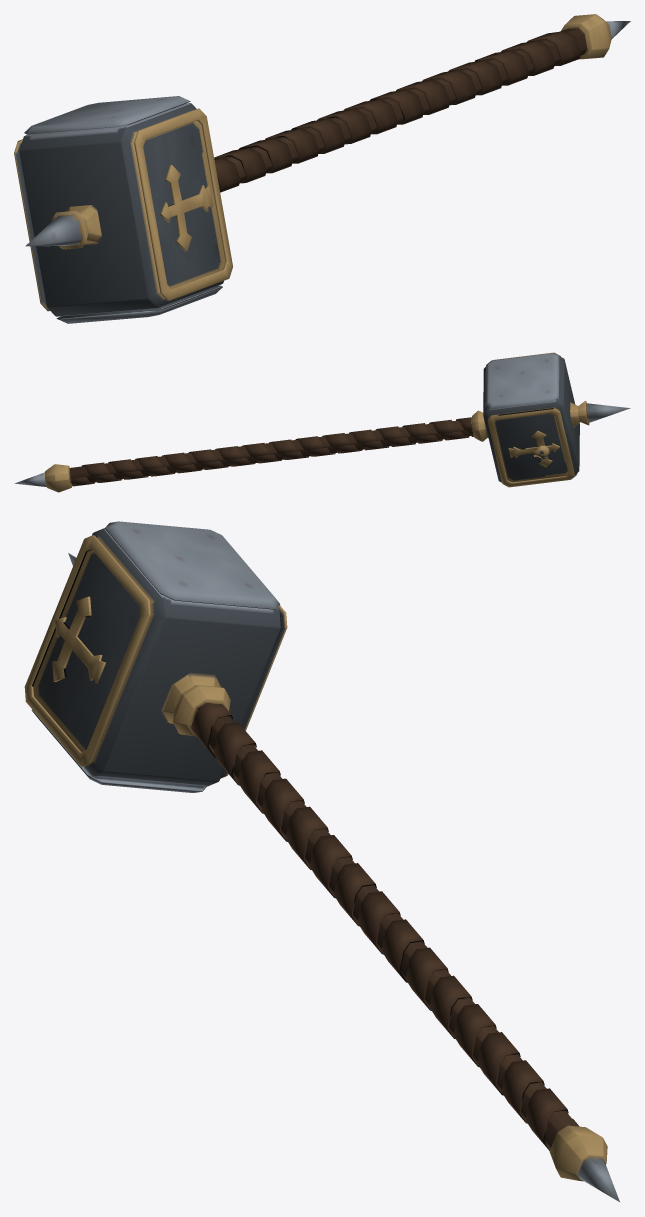
The model's file is wep_civic_battle_prelate_dawn_maul_lod2.glb.
The picture shows the model from 3 angles, top to bottom: view 1: azimuth 30°, elevation 25°; view 2: azimuth 150°, elevation 25°; view 3: azimuth 270°, elevation 25°; orthographic projection. The views are drawn at different scales.
Visible parts, largest first — view 1: battle_prelate_weapon_lod2; view 2: battle_prelate_weapon_lod2; view 3: battle_prelate_weapon_lod2.
Boxes of the visible parts, left/top/right/bottom form: battle_prelate_weapon_lod2: left=14, top=14, right=630, bottom=323; battle_prelate_weapon_lod2: left=14, top=352, right=630, bottom=492; battle_prelate_weapon_lod2: left=24, top=521, right=619, bottom=1201.
Bounding box in the file's own units: 1.59 × 0.4577 × 0.8559.
1 material, 1 textured.
